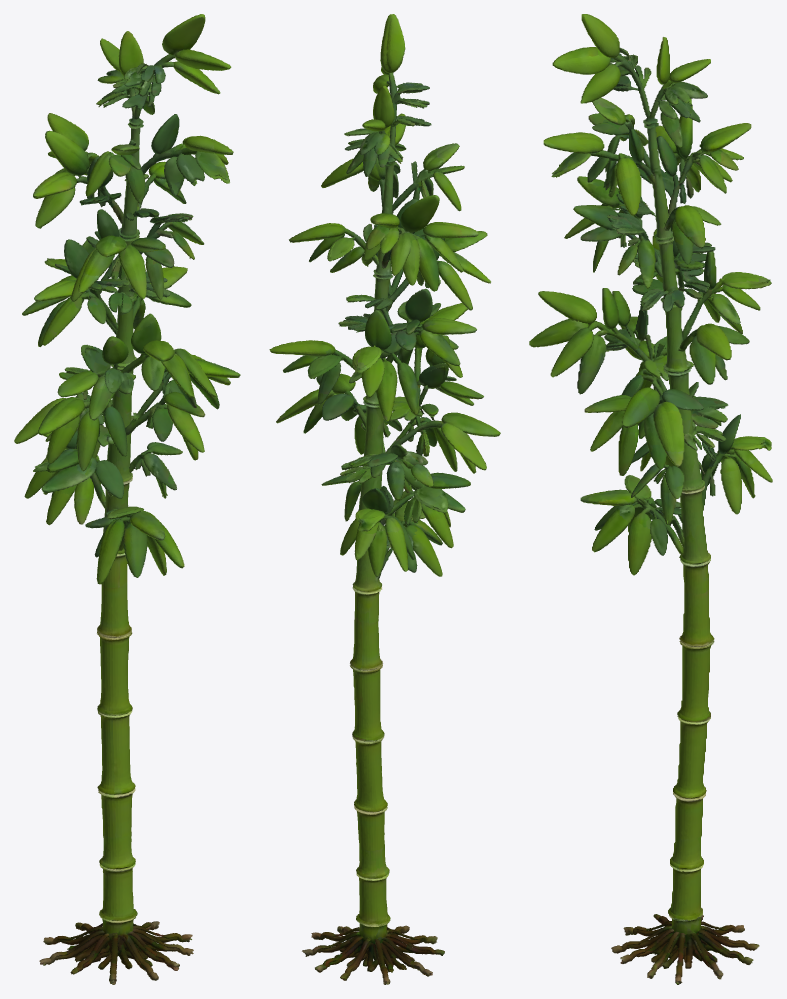
File: XieShiZhu.glb
3 views of the same model, side by side, from view 1: azimuth 30°, elevation 25°; view 2: azimuth 150°, elevation 25°; view 3: azimuth 270°, elevation 25° (orthographic). The views are drawn at different scales.
Visible parts, largest first — view 1: tripo_node_36e48717-f2ae-4833-bcc7-836a958c0654; view 2: tripo_node_36e48717-f2ae-4833-bcc7-836a958c0654; view 3: tripo_node_36e48717-f2ae-4833-bcc7-836a958c0654.
Boxes of the visible parts, bbox=[...] form: tripo_node_36e48717-f2ae-4833-bcc7-836a958c0654: bbox=[14, 14, 240, 984]; tripo_node_36e48717-f2ae-4833-bcc7-836a958c0654: bbox=[269, 14, 500, 984]; tripo_node_36e48717-f2ae-4833-bcc7-836a958c0654: bbox=[529, 14, 772, 984].
Bounding box in the file's own units: 0.2339 × 0.9805 × 0.2271.
1 material, 1 textured.
